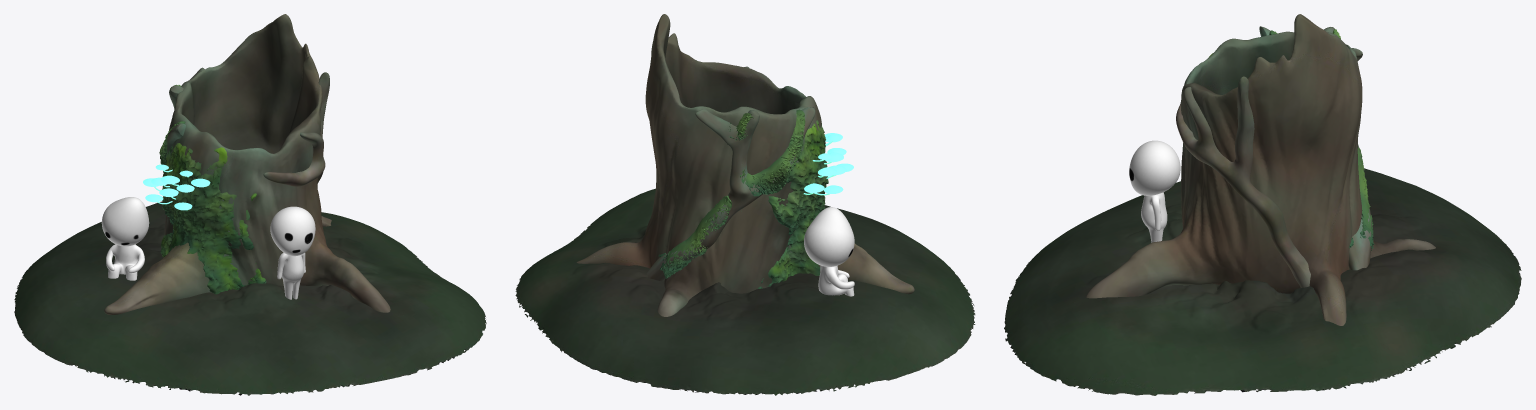
File: kodama_diorama.glb
3 views of the same model, side by side, from view 1: azimuth 30°, elevation 25°; view 2: azimuth 150°, elevation 25°; view 3: azimuth 270°, elevation 25° (orthographic). The views are drawn at different scales.
Parts seen in each view (by area): view 1: Object_9, Object_13, Object_11, Object_17, Object_15, Object_5, Object_7; view 2: Object_9, Object_13, Object_11, Object_5, Object_3, Object_17, Object_7; view 3: Object_9, Object_13, Object_5, Object_15, Object_3.
Part boxes in pixels (x1,y1,x2,y2): Object_9: (14, 201, 486, 395); Object_13: (104, 14, 390, 314); Object_11: (160, 143, 266, 294); Object_17: (101, 197, 149, 280); Object_15: (270, 206, 315, 299); Object_5: (162, 67, 329, 186); Object_7: (143, 164, 210, 210); Object_9: (515, 188, 975, 395); Object_13: (576, 14, 914, 316); Object_11: (758, 120, 828, 288); Object_5: (646, 66, 815, 281); Object_3: (658, 109, 805, 278); Object_17: (804, 207, 854, 296); Object_7: (803, 133, 853, 195); Object_9: (1004, 168, 1521, 395); Object_13: (1086, 14, 1435, 325); Object_5: (1176, 26, 1372, 287); Object_15: (1129, 140, 1180, 242); Object_3: (1269, 29, 1374, 250).
Bounding box in the file's own units: 6.57 × 4.41 × 6.58.
8 materials, 8 textured.
